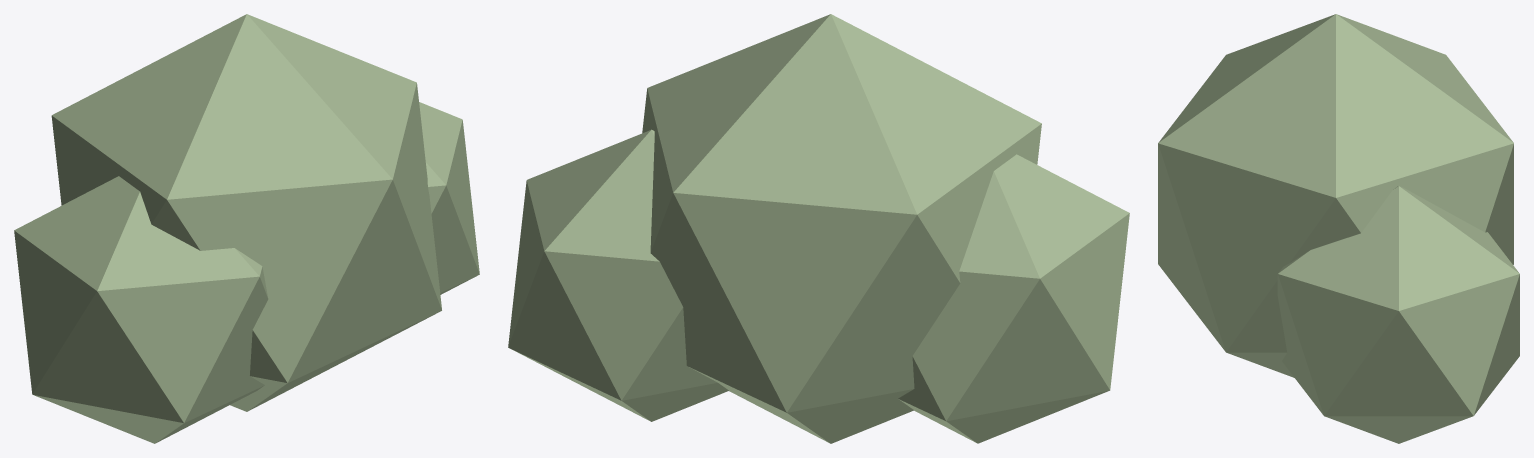
File: SM_Bush.fbx
3 views of the same model, side by side, from view 1: azimuth 30°, elevation 25°; view 2: azimuth 150°, elevation 25°; view 3: azimuth 270°, elevation 25° (orthographic). The views are drawn at different scales.
Visible parts, largest first — view 1: Bush; view 2: Bush; view 3: Bush.
Boxes of the visible parts, x1,y1,x2,y2 form: Bush: (14,14,479,443); Bush: (508,14,1129,443); Bush: (1158,14,1519,443).
Bounding box in the file's own units: 128 × 100 × 86.45.
